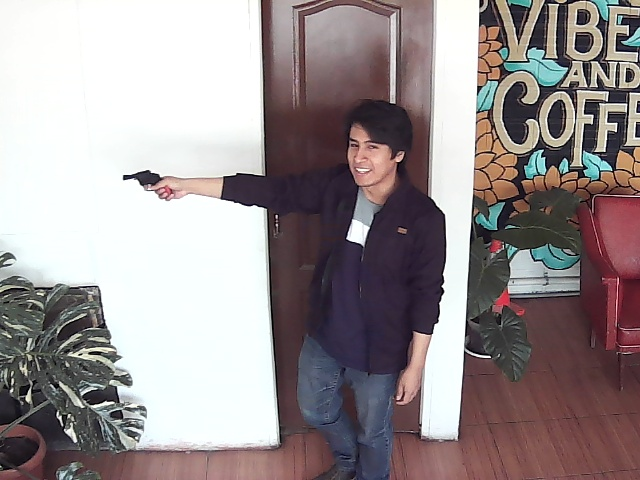pistola: (113, 166, 179, 202)
